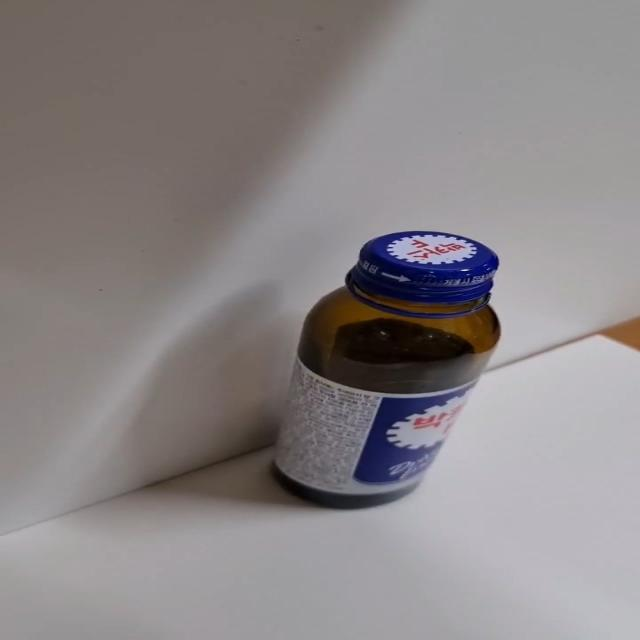Glass: (270, 230, 503, 512)
